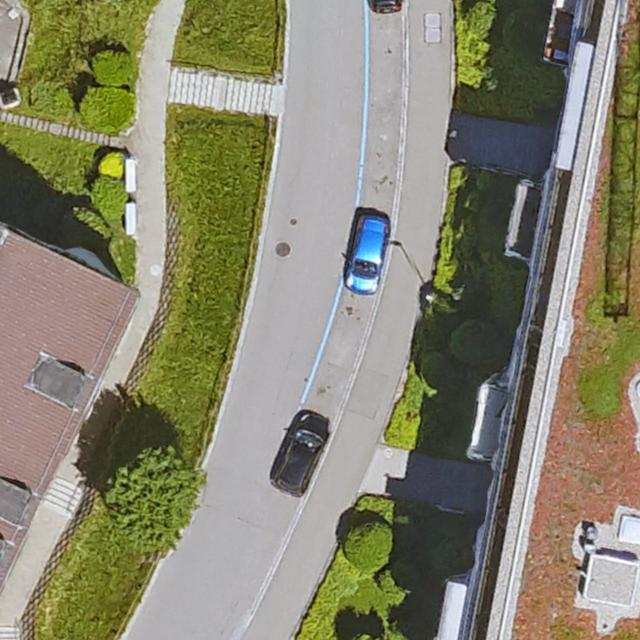tree: (104, 448, 206, 545)
